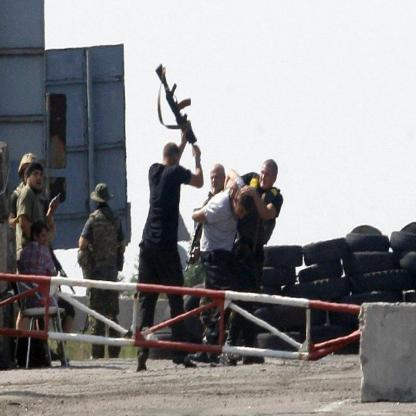face: (211, 165, 225, 192), (260, 164, 274, 189), (30, 169, 43, 191), (234, 200, 247, 221), (38, 228, 49, 246), (230, 182, 238, 199)
